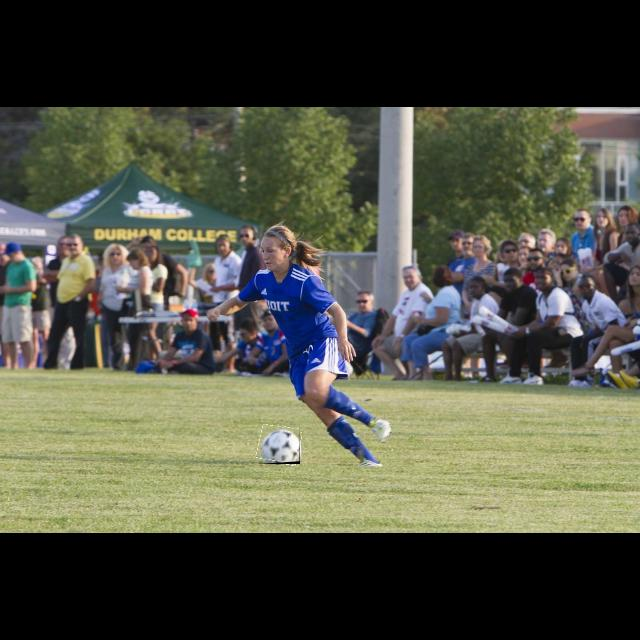Football: (258, 426, 300, 464)
